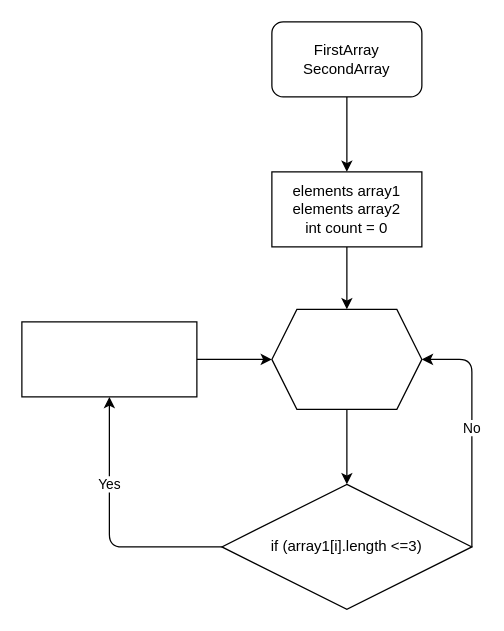
This 504x631 diagram has some shape labels left out. Each missing label, with the centre of its shape:
array2[count] = array1[i] count++: pixel 109 359
for (int i =0; i < array1.length; i++): pixel 346 358
